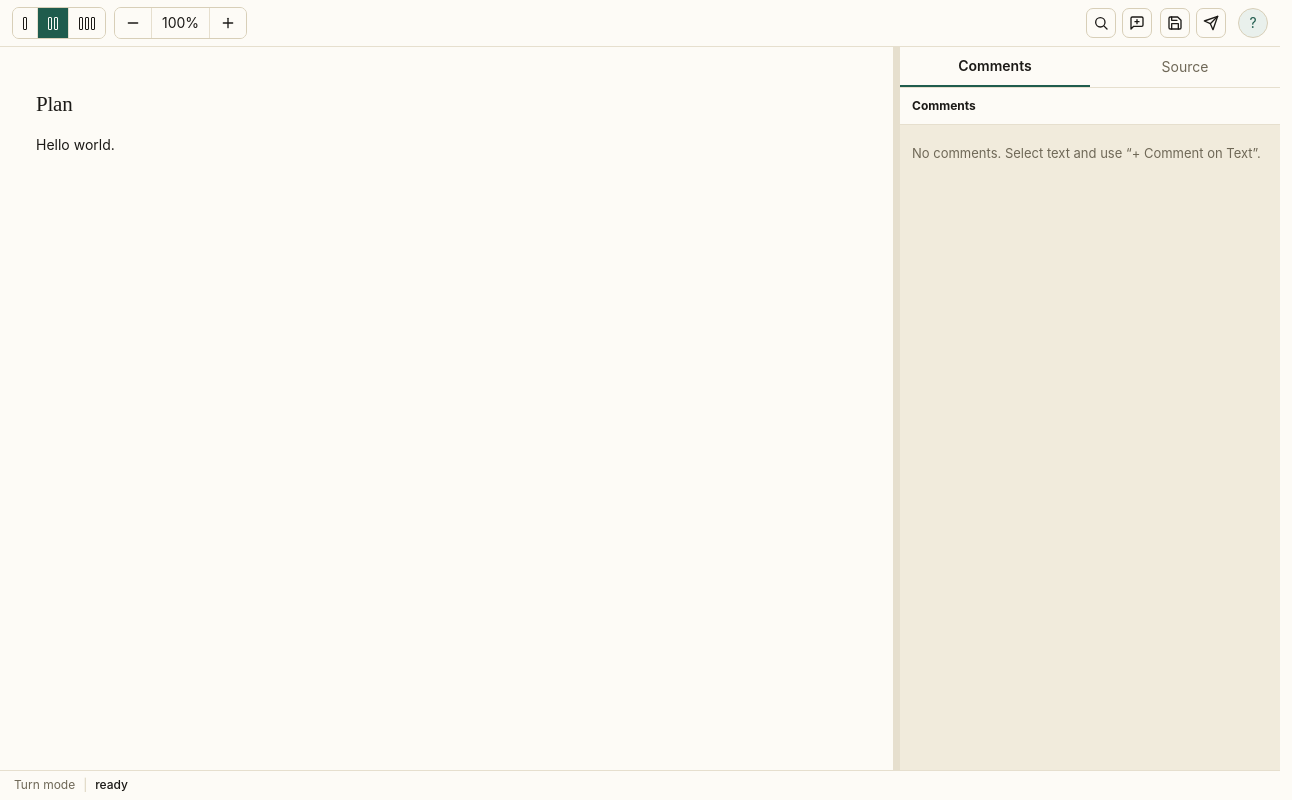
it: span comment creation (regression) › adds a span comment via the right-click menu using the selection captured at right-click
Right-click the element with class "ap-rendered" at (54, 104), box [36, 92, 115, 153]
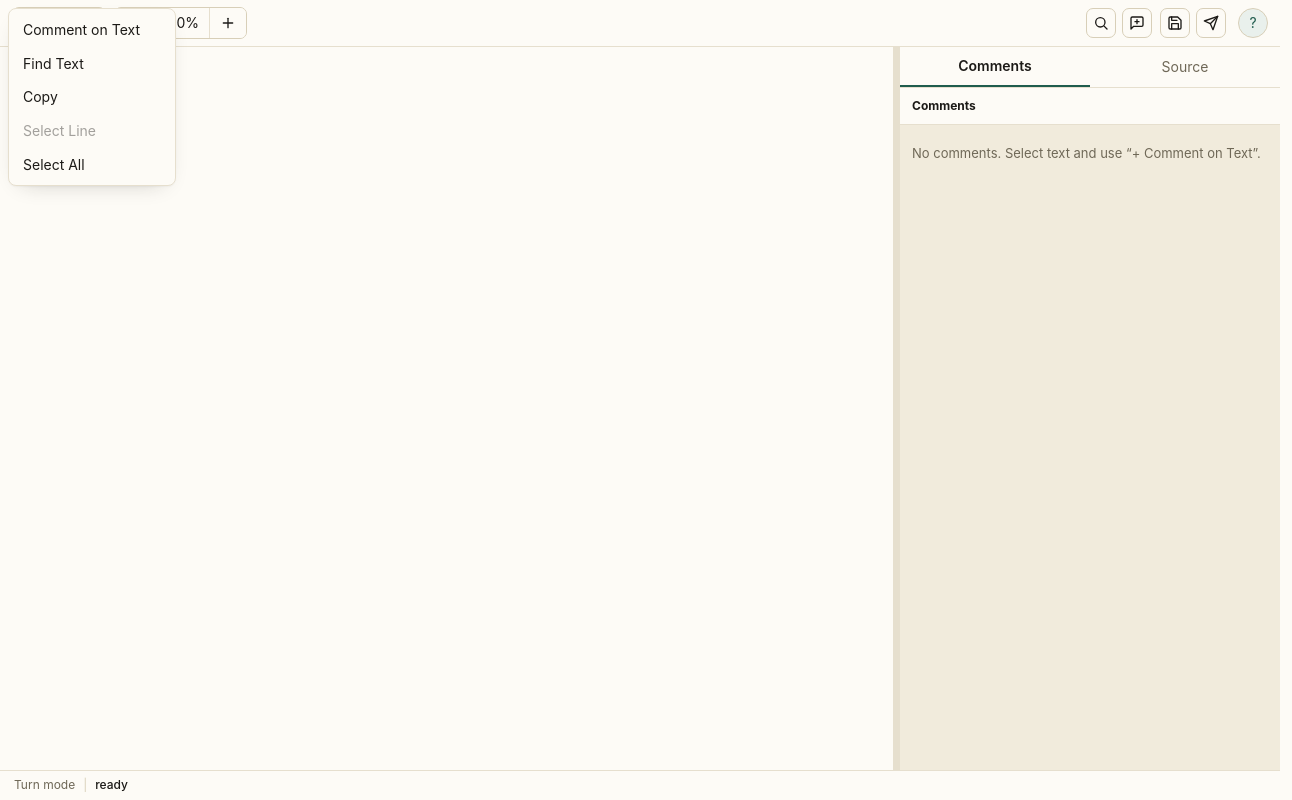
Click the menu item "Comment on Text" at (92, 30), box [13, 13, 171, 47]
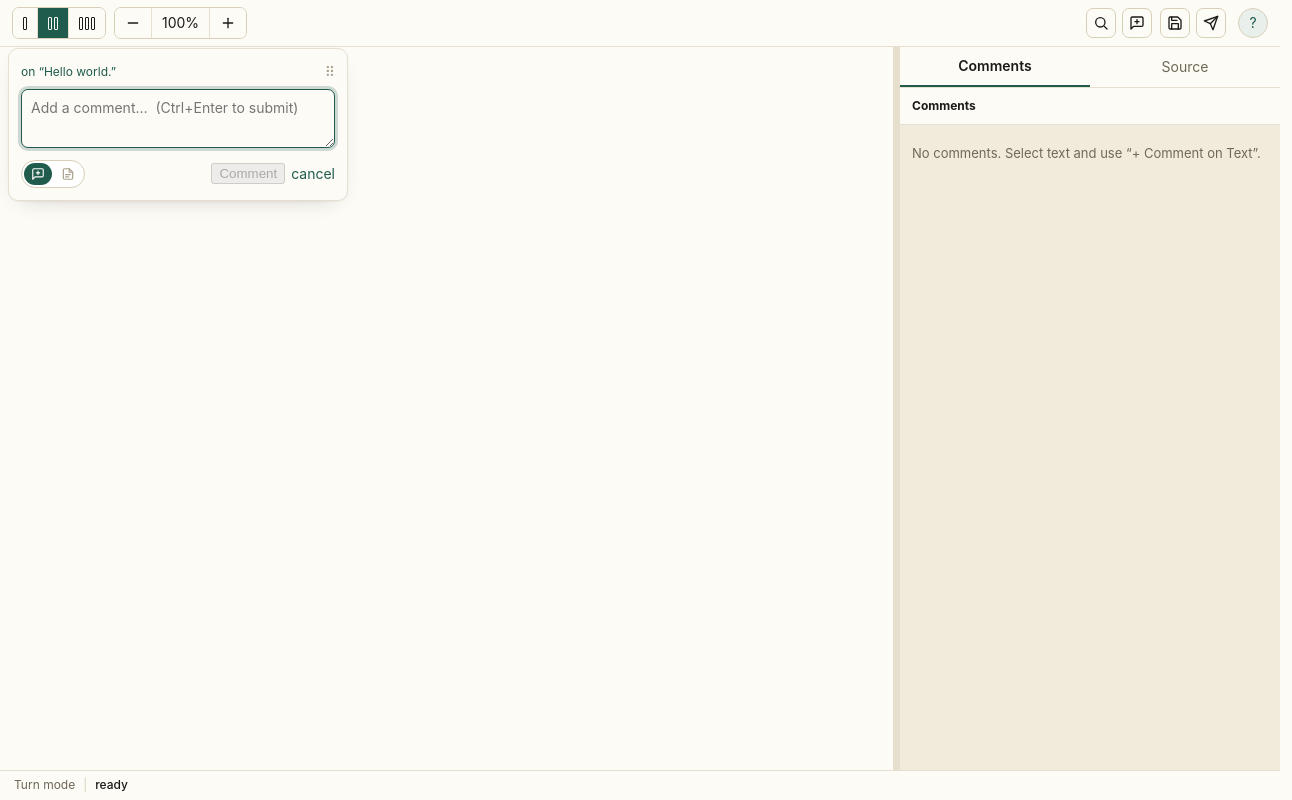
Type "Menu-anchored note." into the dropdown with placeholder "Add a comment… (Ctrl+Enter to submit)" at (178, 118), box [21, 89, 335, 148]
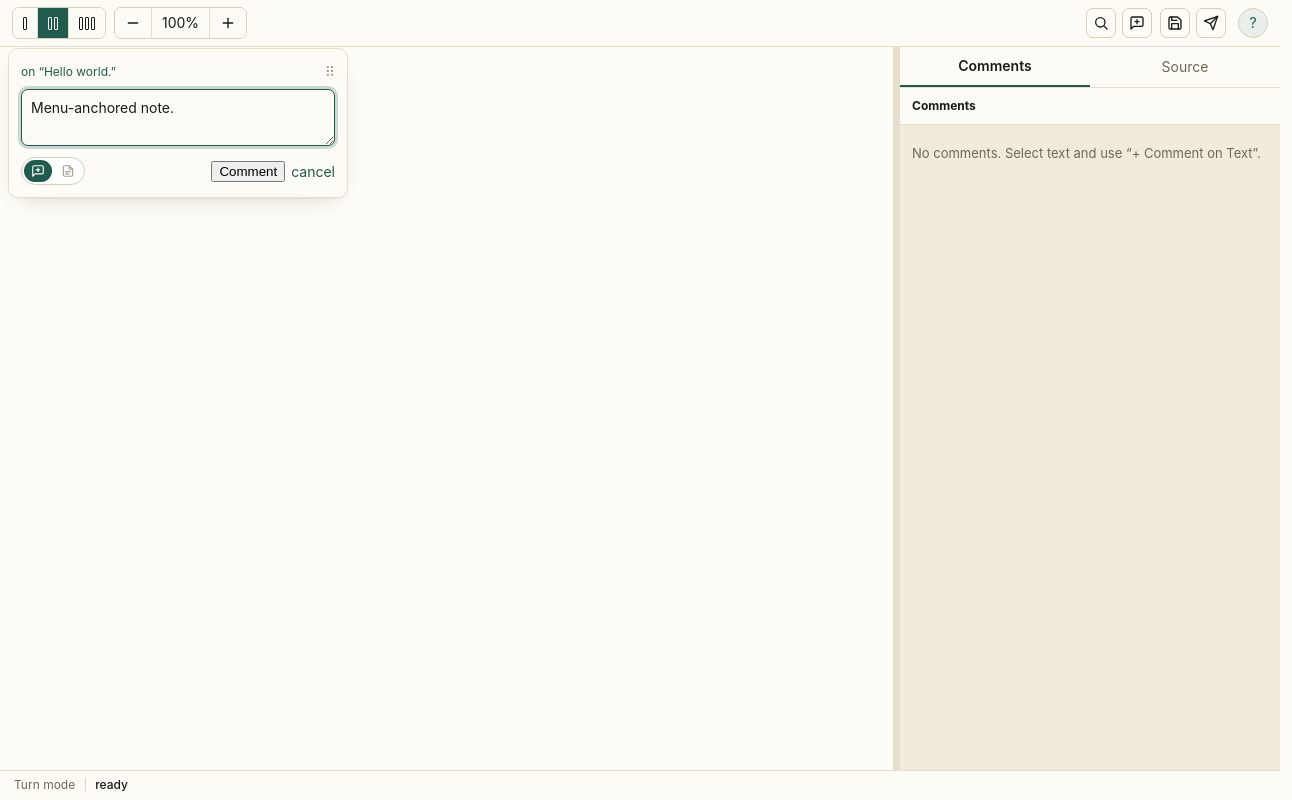
Click the button "Comment" at (248, 171), box [211, 161, 285, 182]
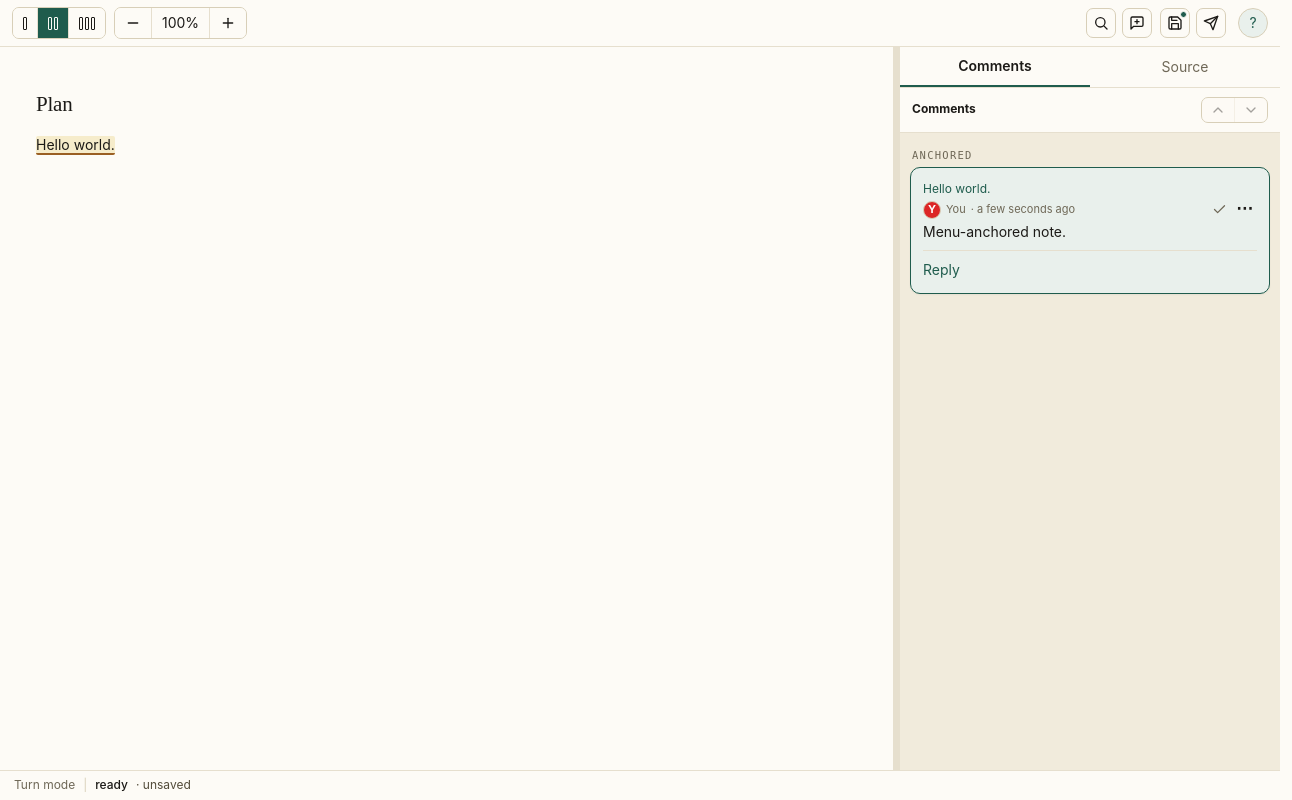
Check: the link "Hello world." is shown, box [36, 136, 115, 155]
Check: the text "Menu-anchored note." is shown, box [923, 222, 1066, 240]
